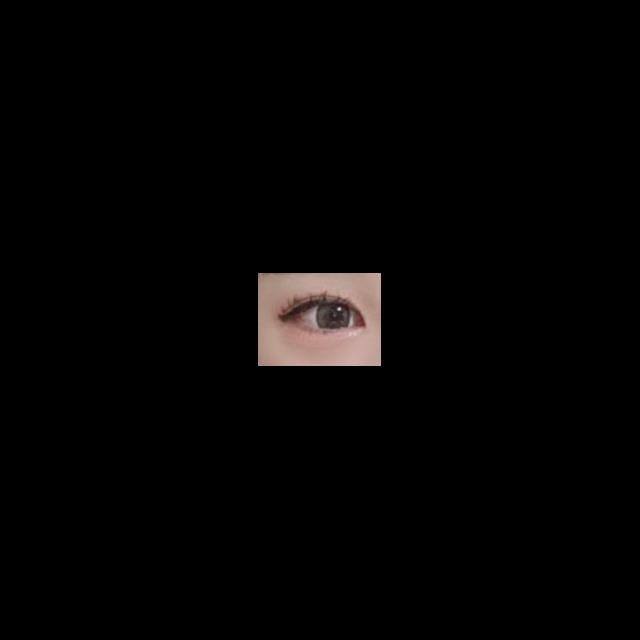eye: (299, 304, 358, 330)
iris: (317, 306, 350, 329)
